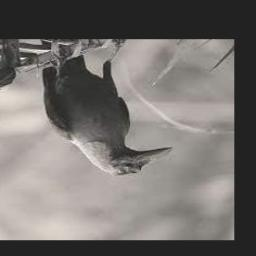Crow: (41, 40, 174, 177)
